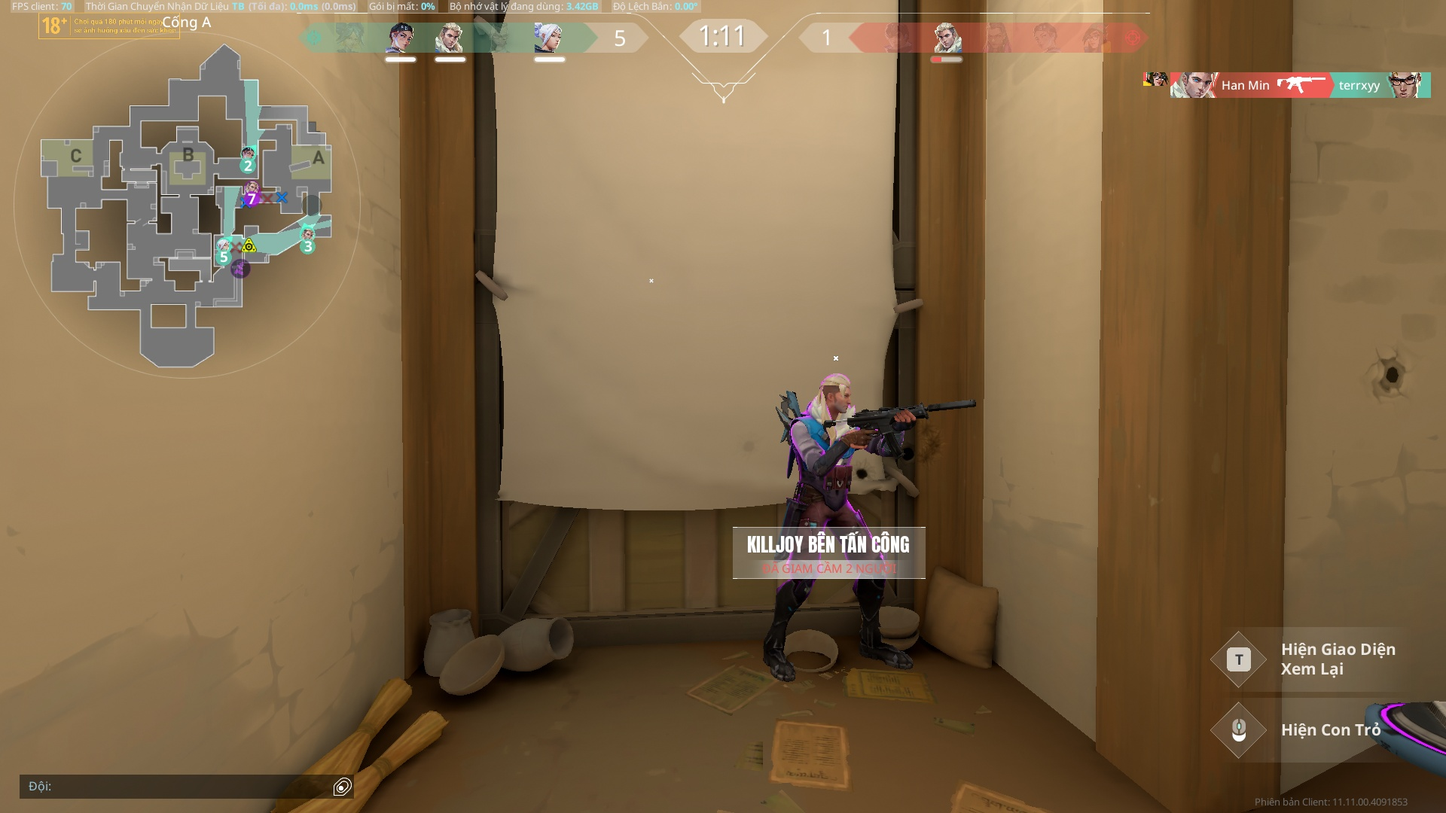body: (789, 404, 859, 473)
head: (815, 373, 853, 409)
